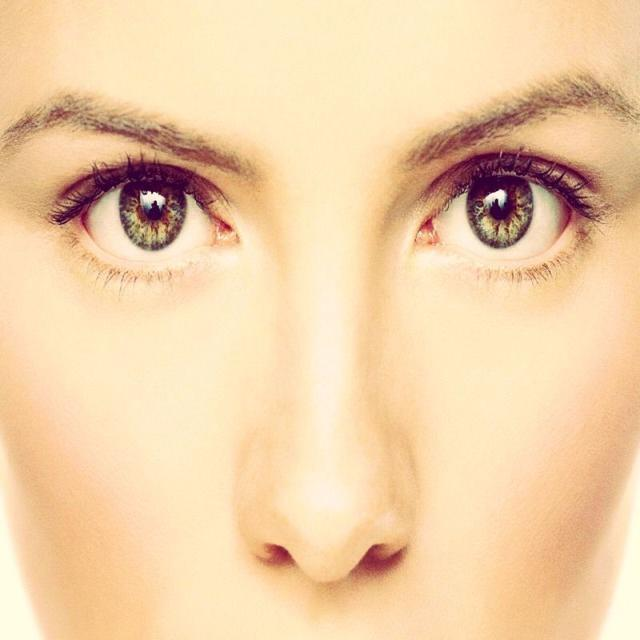Puffy Eyes - v3 Dark Circle: (42, 220, 258, 324), (434, 248, 598, 318)
